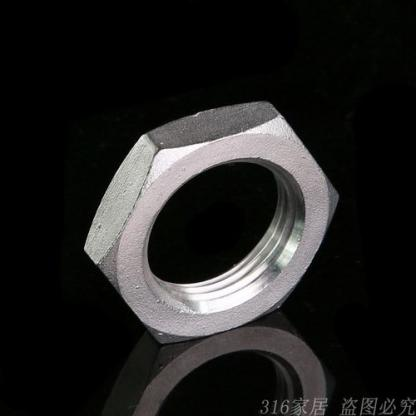FOD: (78, 96, 343, 348)
